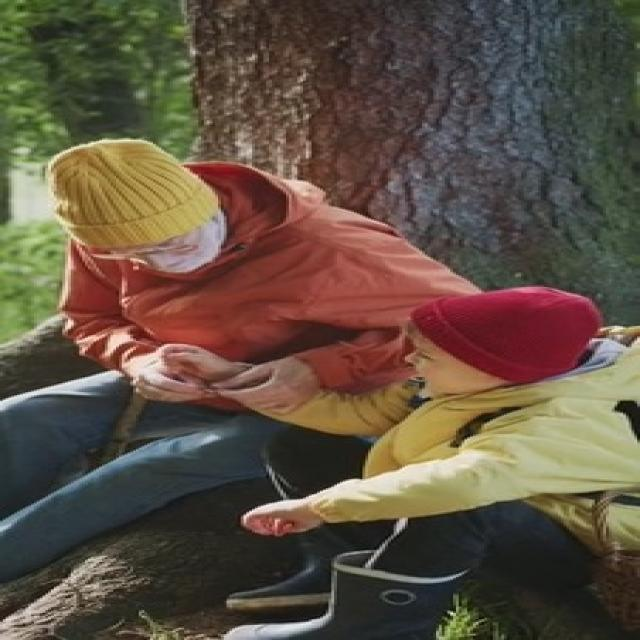Jacket_Wearer: (37, 208, 542, 386)
Person: (4, 112, 453, 466)
